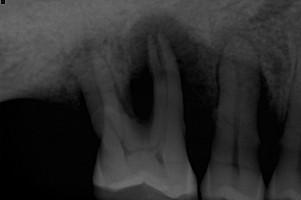Dental Caries: (119, 13, 223, 126), (31, 37, 106, 105)
